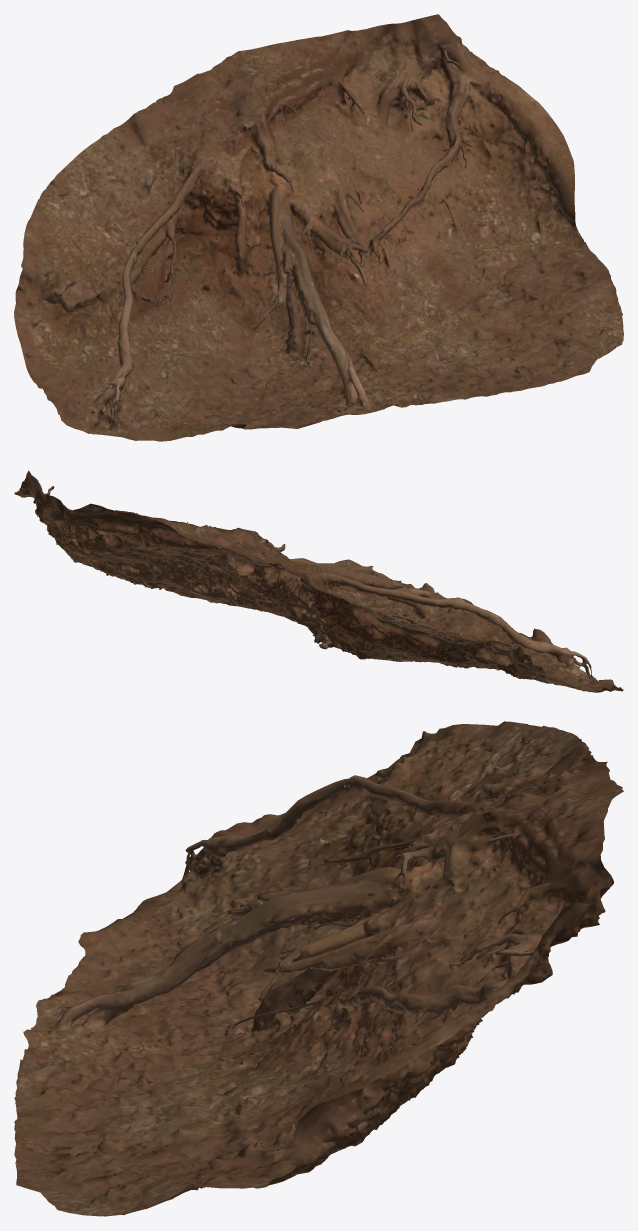
Rendered from root_cluster_01.glb.
3 views of the same model, one above another, from view 1: azimuth 30°, elevation 25°; view 2: azimuth 150°, elevation 25°; view 3: azimuth 270°, elevation 25° (orthographic). The views are drawn at different scales.
Parts seen in each view (by area): view 1: root_cluster_01; view 2: root_cluster_01; view 3: root_cluster_01.
Boxes of the visible parts, x1,y1,x2,y2 form: root_cluster_01: [14, 14, 623, 441]; root_cluster_01: [14, 470, 623, 692]; root_cluster_01: [14, 721, 623, 1216].
Size of the model in its own units: 4.12 by 1.51 by 2.68.
Materials: 1 (1 with a texture image).
